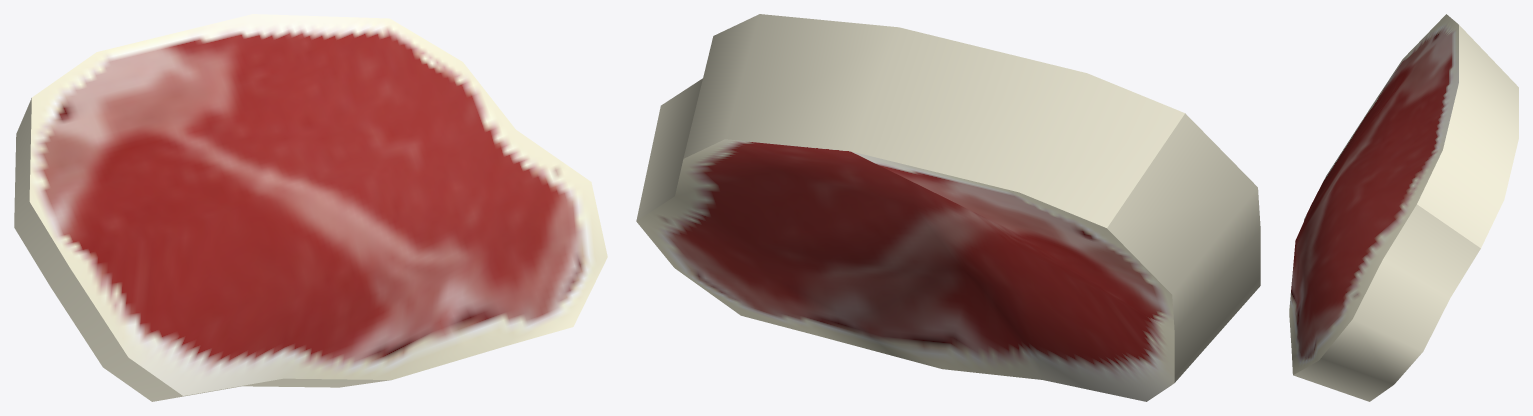
The model's file is brontoburger.dae.
3 renders of one model, left to right at view 1: azimuth 30°, elevation 25°; view 2: azimuth 150°, elevation 25°; view 3: azimuth 270°, elevation 25°, orthographic. The views are drawn at different scales.
Visible parts, largest first — view 1: Brontoburger; view 2: Brontoburger; view 3: Brontoburger.
Part boxes in pixels (left/top/right/bottom): Brontoburger: left=14, top=14, right=607, bottom=401; Brontoburger: left=636, top=14, right=1260, bottom=401; Brontoburger: left=1289, top=14, right=1518, bottom=401.
Size of the model in its own units: 1.68 by 1.02 by 0.837.
